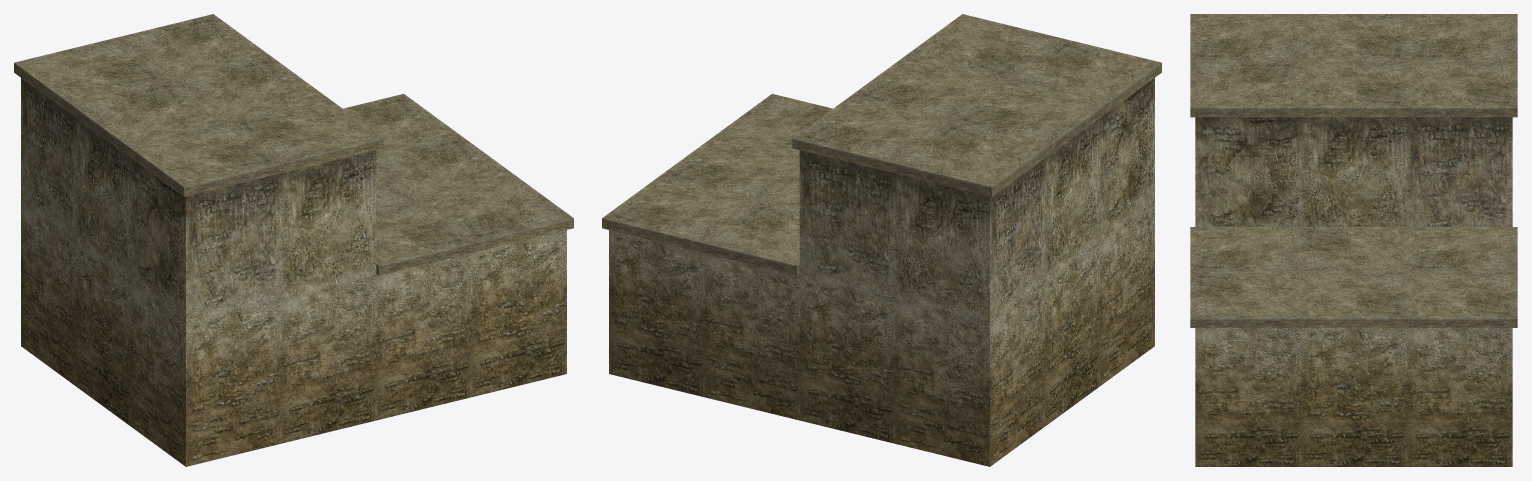
The model's file is hrt_house7.glb.
3 views of the same model, side by side, from view 1: azimuth 30°, elevation 25°; view 2: azimuth 150°, elevation 25°; view 3: azimuth 270°, elevation 25° (orthographic). The views are drawn at different scales.
Parts seen in each view (by area): view 1: hrt_house7; view 2: hrt_house7; view 3: hrt_house7.
Part boxes in pixels (left/top/right/bottom): hrt_house7: left=14, top=14, right=573, bottom=466; hrt_house7: left=602, top=14, right=1161, bottom=466; hrt_house7: left=1190, top=14, right=1517, bottom=466.
Size of the model in its own units: 12.28 by 8.51 by 9.28.
8 materials, 8 textured.
